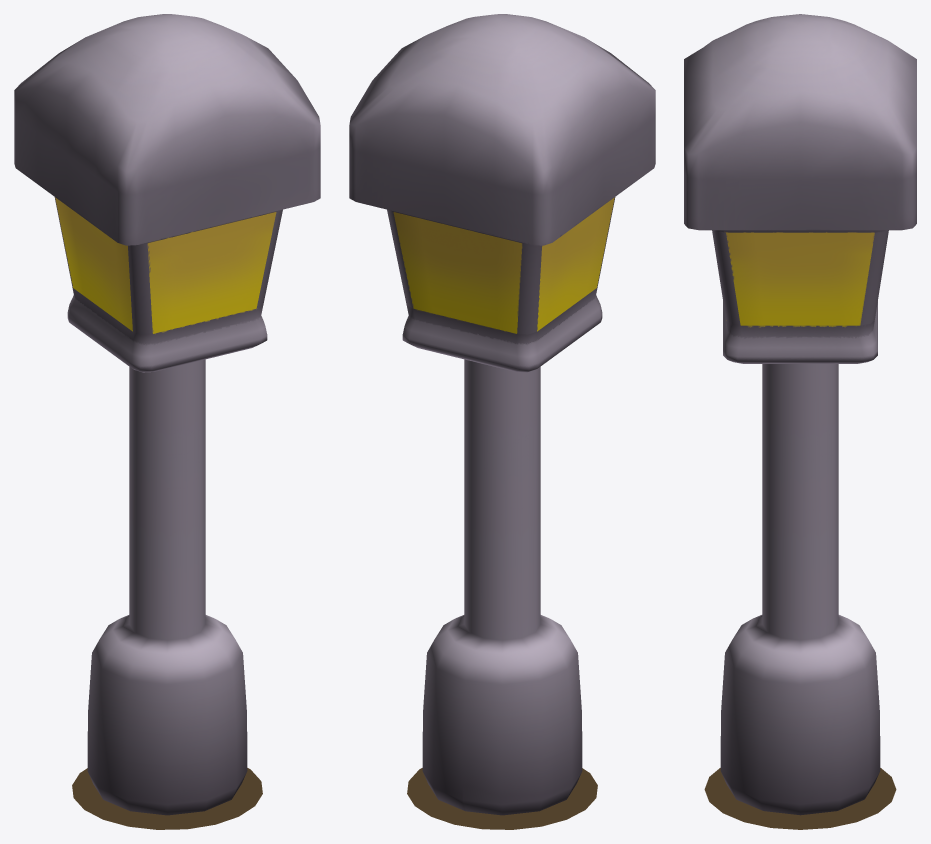
File: Lamp01.fbx
3 views of the same model, side by side, from view 1: azimuth 30°, elevation 25°; view 2: azimuth 150°, elevation 25°; view 3: azimuth 270°, elevation 25° (orthographic).
Parts seen in each view (by area): view 1: Lamp01; view 2: Lamp01; view 3: Lamp01.
Part boxes in pixels (x1,y1,x2,y2): Lamp01: (14, 14, 320, 829); Lamp01: (349, 14, 655, 829); Lamp01: (684, 14, 916, 829).
Bounding box in the file's own units: 80.44 × 291 × 80.44.
